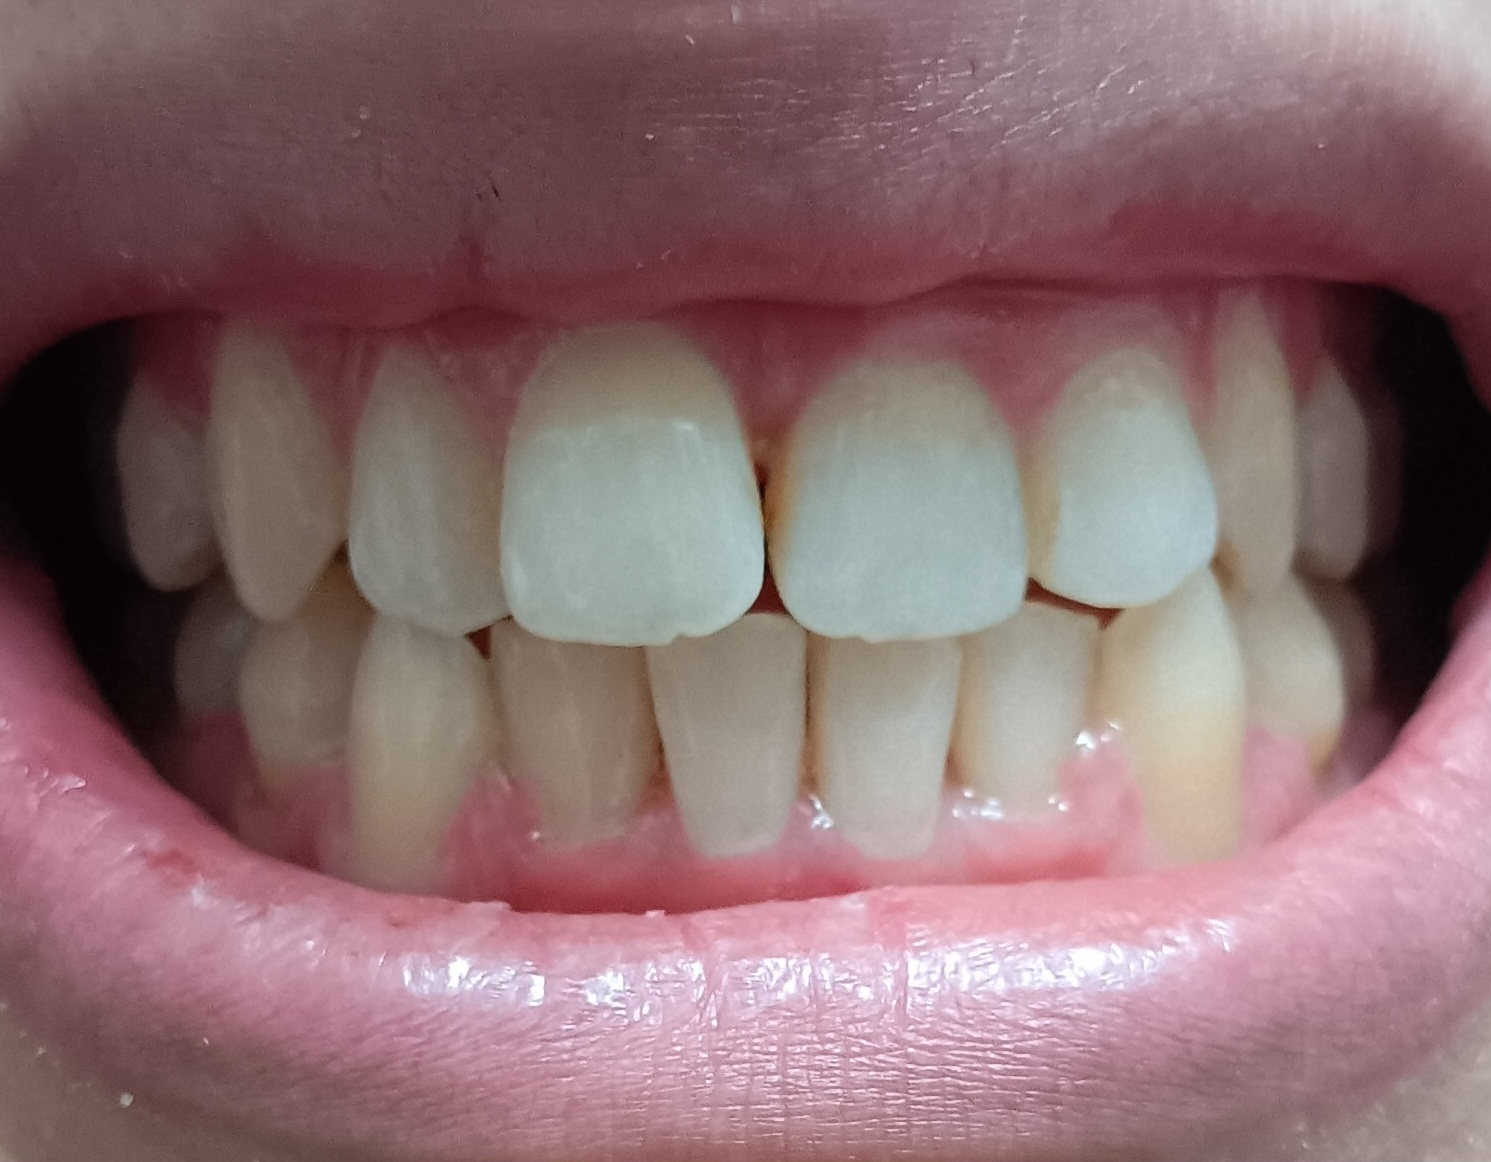teeth: (501, 347, 749, 634), (776, 374, 1020, 619), (1104, 588, 1237, 867), (1057, 382, 1220, 604), (206, 347, 334, 617), (353, 621, 485, 882), (812, 633, 949, 859), (364, 361, 482, 623), (662, 627, 795, 850), (961, 611, 1100, 811), (503, 632, 624, 841), (1213, 315, 1284, 583)
